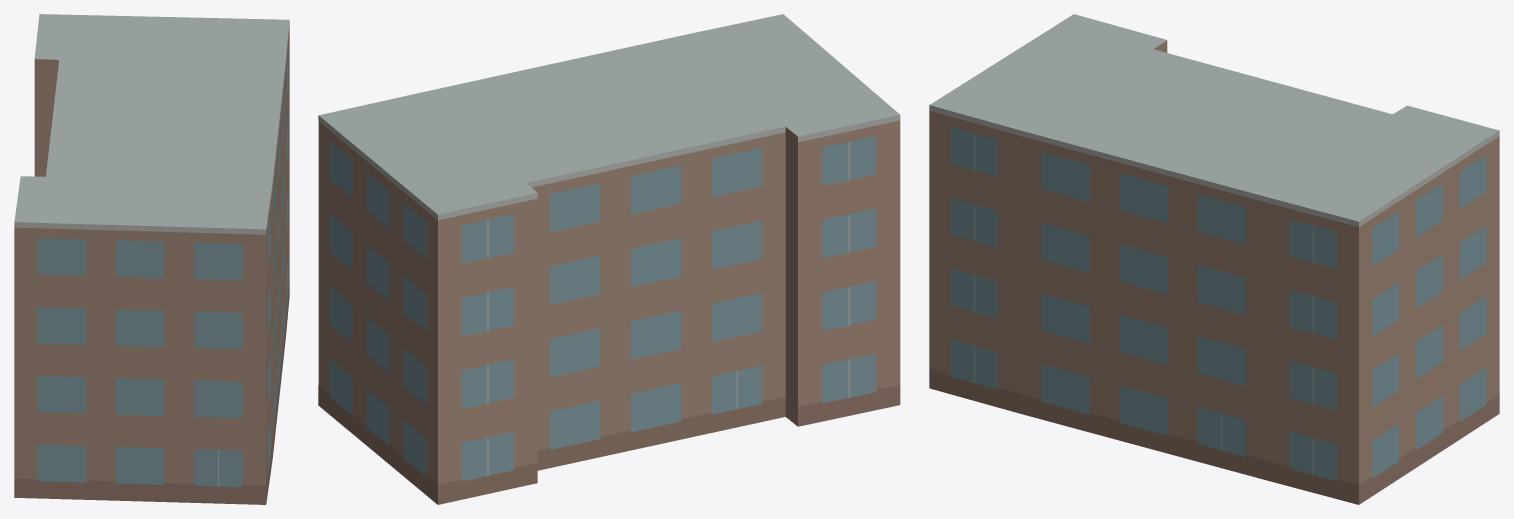
Rendered from survey-upis-32702700.glb.
3 renders of one model, left to right at view 1: azimuth 30°, elevation 25°; view 2: azimuth 150°, elevation 25°; view 3: azimuth 270°, elevation 25°, orthographic. The views are drawn at different scales.
Parts seen in each view (by area): view 1: survey-upis-32702700.tmp; view 2: survey-upis-32702700.tmp; view 3: survey-upis-32702700.tmp.
Boxes of the visible parts, x1=… form: survey-upis-32702700.tmp: x1=14, y1=14, x2=289, y2=504; survey-upis-32702700.tmp: x1=318, y1=14, x2=900, y2=504; survey-upis-32702700.tmp: x1=929, y1=14, x2=1499, y2=504.
Size of the model in its own units: 19.58 by 12.45 by 22.72.
